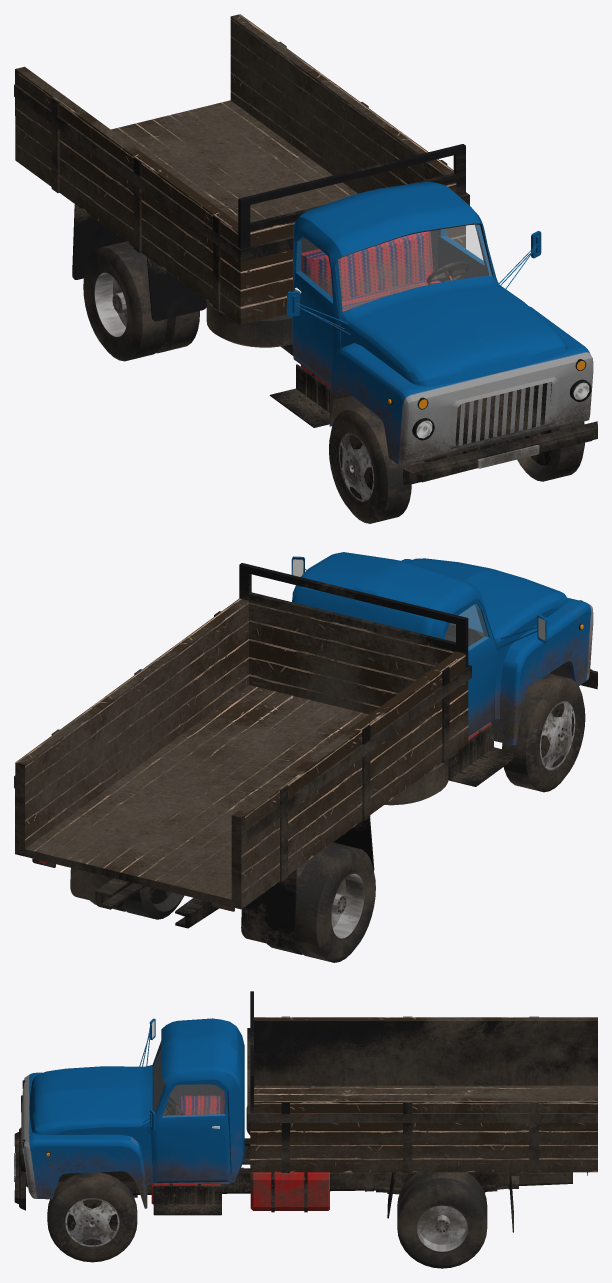
File: gaz53.gltf
3 views of the same model, one above another, from view 1: azimuth 30°, elevation 25°; view 2: azimuth 150°, elevation 25°; view 3: azimuth 270°, elevation 25° (orthographic). The views are drawn at different scales.
Visible parts, largest first — view 1: Body, Wheel_RR, Wheel_FR, Wheel_FL; view 2: Body, Wheel_RR, Wheel_FR, Wheel_RL; view 3: Body, Wheel_RL, Wheel_FL.
Part boxes in pixels (bbox=[...]): Body: bbox=[14, 14, 597, 484]; Wheel_RR: bbox=[83, 241, 199, 361]; Wheel_FR: bbox=[329, 405, 411, 523]; Wheel_FL: bbox=[517, 421, 584, 481]; Body: bbox=[14, 552, 597, 948]; Wheel_RR: bbox=[267, 842, 375, 962]; Wheel_FR: bbox=[502, 673, 585, 792]; Wheel_RL: bbox=[90, 886, 184, 919]; Body: bbox=[14, 991, 597, 1232]; Wheel_RL: bbox=[397, 1172, 487, 1268]; Wheel_FL: bbox=[47, 1172, 137, 1262].
Bounding box in the file's own units: 2.39 × 2.23 × 6.18.
7 materials, 6 textured.
